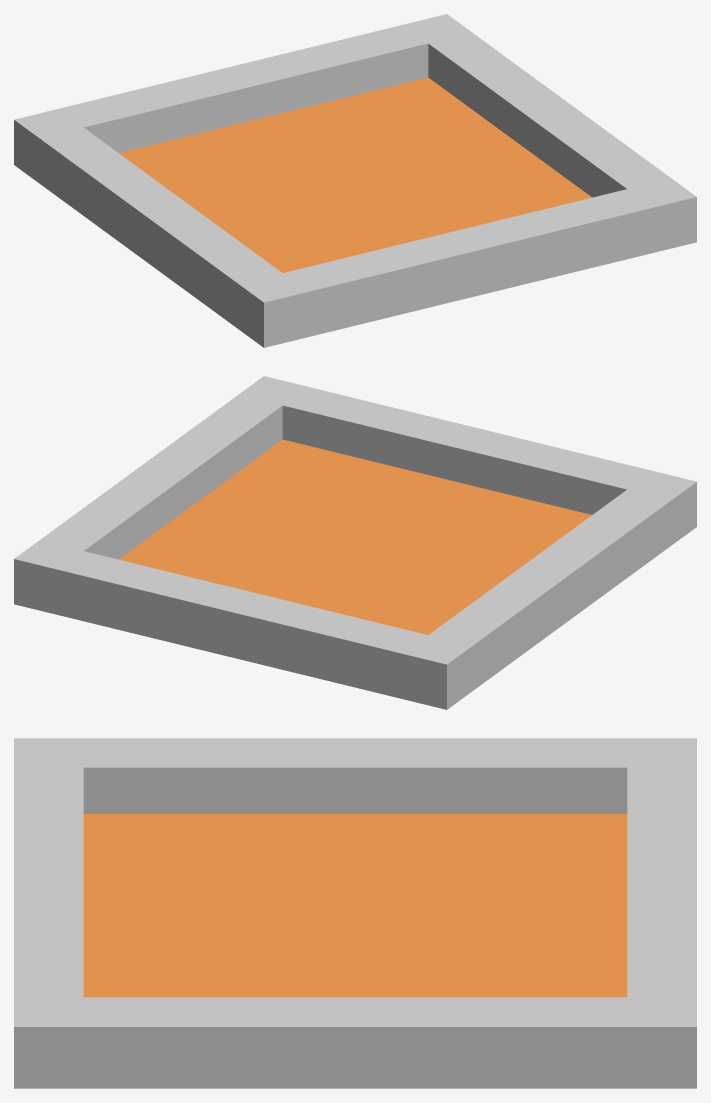
Rendered from conveyorTrapDestroyerPlatform.fbx.
3 renders of one model, top to bottom at view 1: azimuth 30°, elevation 25°; view 2: azimuth 150°, elevation 25°; view 3: azimuth 270°, elevation 25°, orthographic. The views are drawn at different scales.
Parts seen in each view (by area): view 1: Cube.002; view 2: Cube.002; view 3: Cube.002.
Boxes of the visible parts, left/top/right/bottom form: Cube.002: left=14, top=14, right=696, bottom=347; Cube.002: left=14, top=376, right=696, bottom=709; Cube.002: left=14, top=738, right=696, bottom=1088.
Size of the model in its own units: 200 by 20 by 200.
